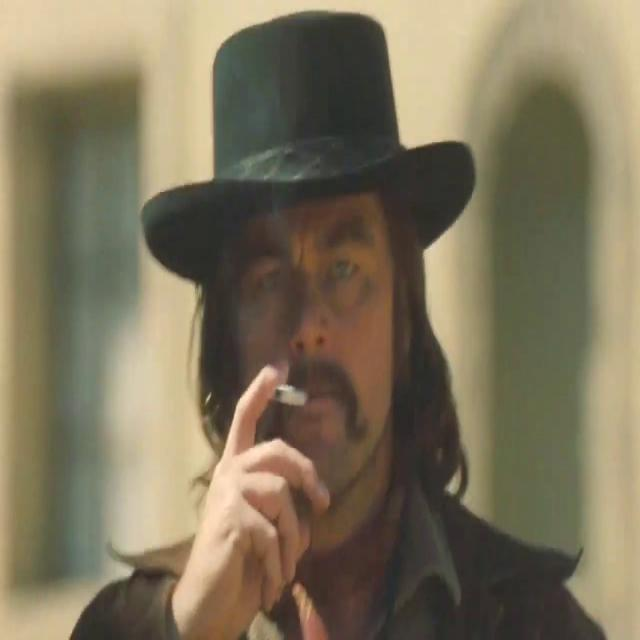Smooking: (268, 377, 317, 418)
